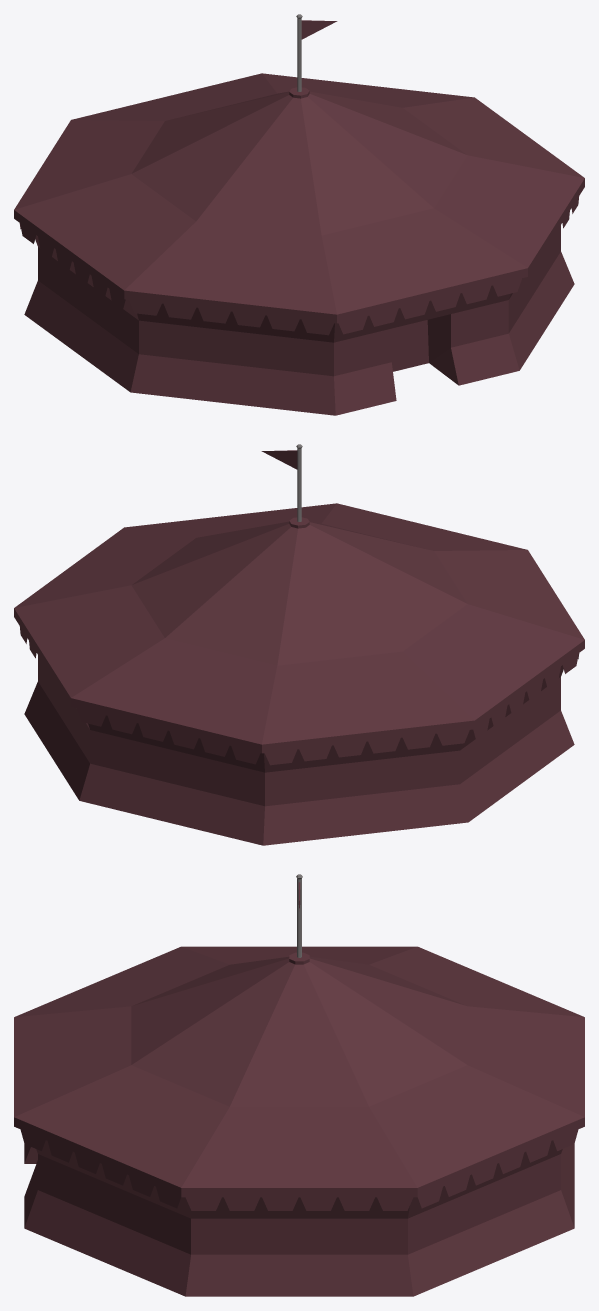
File: tent-circus-big.fbx
3 renders of one model, top to bottom at view 1: azimuth 30°, elevation 25°; view 2: azimuth 150°, elevation 25°; view 3: azimuth 270°, elevation 25°, orthographic. The views are drawn at different scales.
Visible parts, largest first — view 1: tent-circus-big; view 2: tent-circus-big; view 3: tent-circus-big.
Boxes of the visible parts, left/top/right/bottom form: tent-circus-big: left=14, top=14, right=584, bottom=415; tent-circus-big: left=14, top=444, right=584, bottom=845; tent-circus-big: left=14, top=874, right=584, bottom=1296.
Bounding box in the file's own units: 16.44 × 9.7 × 16.44.
